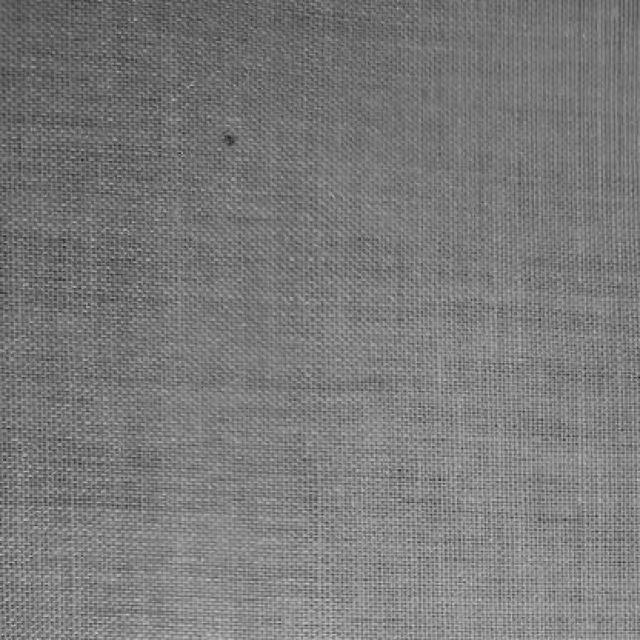seam: (200, 98, 280, 178)
